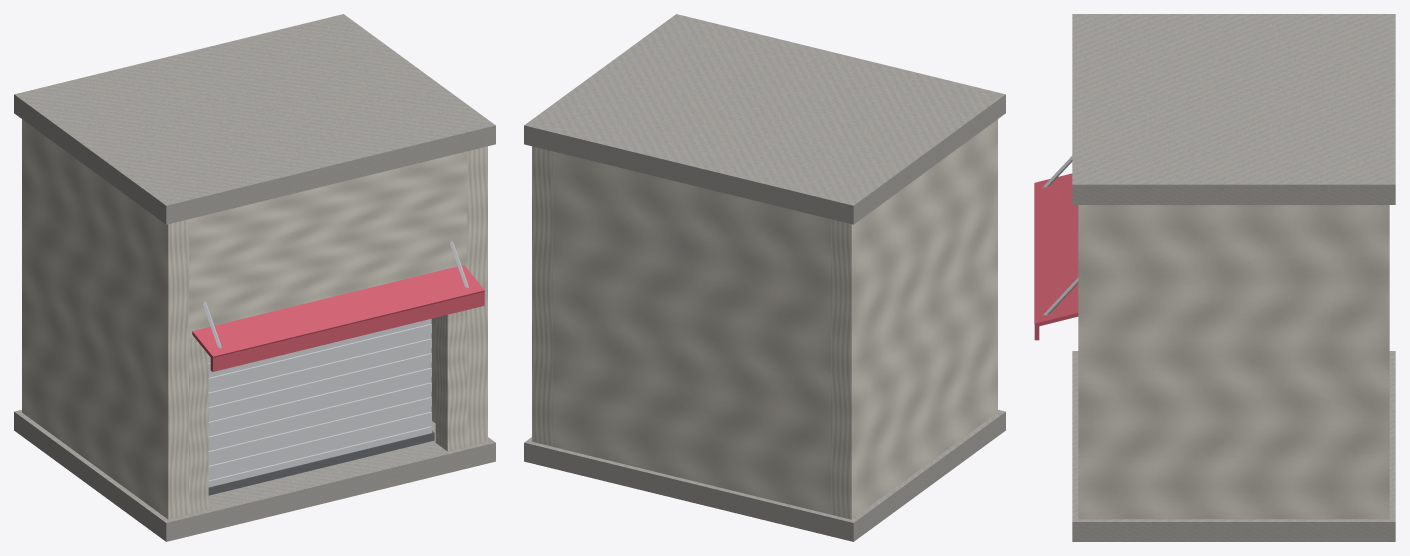
File: shopfront-shutter.glb
3 views of the same model, side by side, from view 1: azimuth 30°, elevation 25°; view 2: azimuth 150°, elevation 25°; view 3: azimuth 270°, elevation 25° (orthographic). The views are drawn at different scales.
Parts seen in each view (by area): view 1: shopfront-bay-with-shutter-plaster, shopfront-bay-with-shutter-stone, shutter/steel, shopfront-bay-with-shutter-crimson, shutter/charcoal; view 2: shopfront-bay-with-shutter-plaster, shopfront-bay-with-shutter-stone; view 3: shopfront-bay-with-shutter-plaster, shopfront-bay-with-shutter-stone, shopfront-bay-with-shutter-crimson.
Part boxes in pixels (<box>): shopfront-bay-with-shutter-plaster: <box>22,119,487,519</box>; shopfront-bay-with-shutter-stone: <box>14,14,495,541</box>; shutter/steel: <box>208,318,431,487</box>; shopfront-bay-with-shutter-crimson: <box>192,265,484,371</box>; shutter/charcoal: <box>208,431,434,495</box>; shopfront-bay-with-shutter-plaster: <box>532,119,997,519</box>; shopfront-bay-with-shutter-stone: <box>524,14,1005,541</box>; shopfront-bay-with-shutter-plaster: <box>1078,205,1389,519</box>; shopfront-bay-with-shutter-stone: <box>1072,14,1395,541</box>; shopfront-bay-with-shutter-crimson: <box>1034,173,1078,340</box>.
Bounding box in the file's own units: 4 × 3.9 × 3.58.
8 materials, 3 textured.
